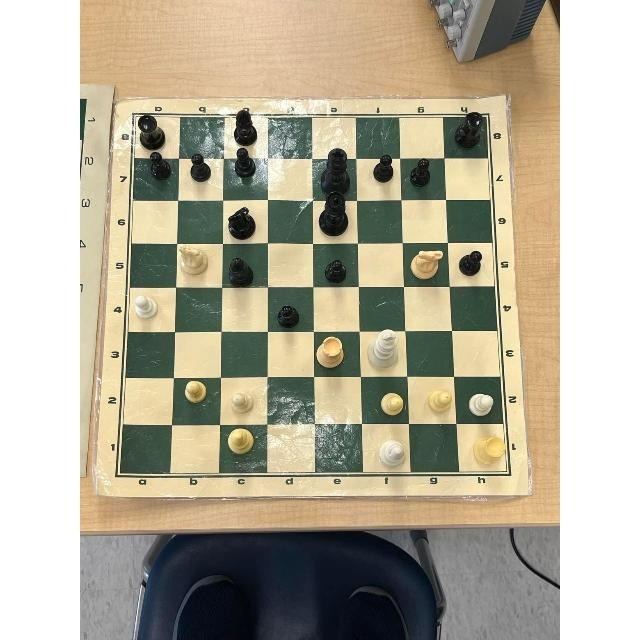black-bishop: (223, 242, 265, 288), (223, 109, 267, 147)
black-king: (312, 146, 361, 191)
black-knight: (221, 200, 267, 242)
black-pawn: (223, 150, 273, 198), (177, 151, 222, 202), (269, 287, 313, 335), (450, 242, 495, 286), (135, 150, 177, 195), (314, 245, 358, 287), (403, 155, 443, 198), (360, 152, 400, 194)
black-queen: (313, 191, 356, 242)
black-rook: (445, 112, 495, 158), (133, 112, 178, 153)
white-bishop: (363, 424, 413, 474), (220, 425, 264, 471)
white-king: (361, 328, 409, 376)
white-knight: (177, 239, 221, 286), (403, 244, 448, 284)
white-pawn: (453, 374, 503, 424), (361, 375, 410, 425), (220, 376, 268, 424), (126, 284, 174, 331), (408, 376, 455, 424), (175, 377, 219, 421)
white-rook: (456, 422, 512, 471), (314, 331, 362, 376)
